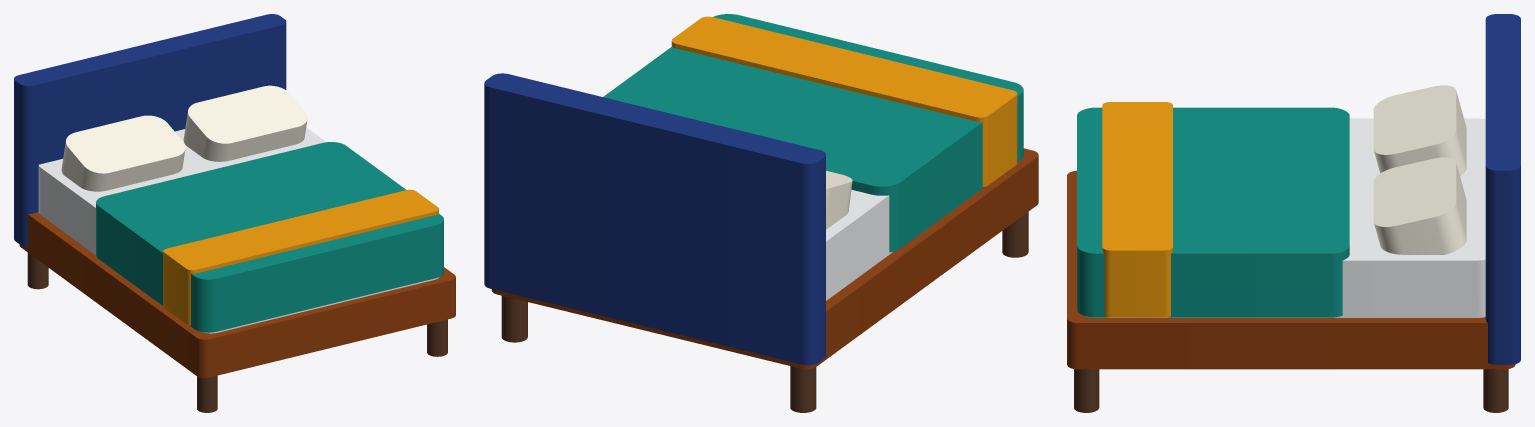
The model's file is hotel_bed.glb.
3 views of the same model, side by side, from view 1: azimuth 30°, elevation 25°; view 2: azimuth 150°, elevation 25°; view 3: azimuth 270°, elevation 25° (orthographic). The views are drawn at different scales.
Parts seen in each view (by area): view 1: duvet, headboard, bed_frame, runner, pillow_L, pillow_R, mattress, bleg_0, bleg_1, bleg_2; view 2: headboard, duvet, runner, bed_frame, mattress, bleg_2, pillow_L, bleg_3, bleg_0; view 3: duvet, bed_frame, mattress, runner, headboard, pillow_R, pillow_L, bleg_1, bleg_3.
Boxes of the visible parts, <box> form: duvet: <box>96,142,443,332</box>; headboard: <box>14,14,286,246</box>; bed_frame: <box>19,212,455,377</box>; runner: <box>163,189,438,325</box>; pillow_L: <box>61,115,185,191</box>; pillow_R: <box>183,85,307,161</box>; mattress: <box>38,127,439,333</box>; bleg_0: <box>197,375,217,412</box>; bleg_1: <box>427,319,447,356</box>; bleg_2: <box>27,252,48,289</box>; headboard: <box>484,73,825,365</box>; duvet: <box>603,14,1023,252</box>; runner: <box>671,16,1017,186</box>; bed_frame: <box>491,148,1038,369</box>; mattress: <box>826,189,892,300</box>; bleg_2: <box>790,366,816,412</box>; pillow_L: <box>826,170,852,229</box>; bleg_3: <box>501,296,527,342</box>; bleg_0: <box>1002,212,1028,257</box>; duvet: <box>1077,107,1349,317</box>; bed_frame: <box>1067,170,1515,369</box>; mattress: <box>1080,118,1485,317</box>; runner: <box>1102,102,1172,317</box>; headboard: <box>1485,14,1520,364</box>; pillow_R: <box>1373,157,1466,254</box>; pillow_L: <box>1373,85,1466,175</box>; bleg_1: <box>1074,369,1099,412</box>; bleg_3: <box>1483,369,1508,412</box>.
Size of the model in its own units: 0.76 by 0.56 by 0.931.
